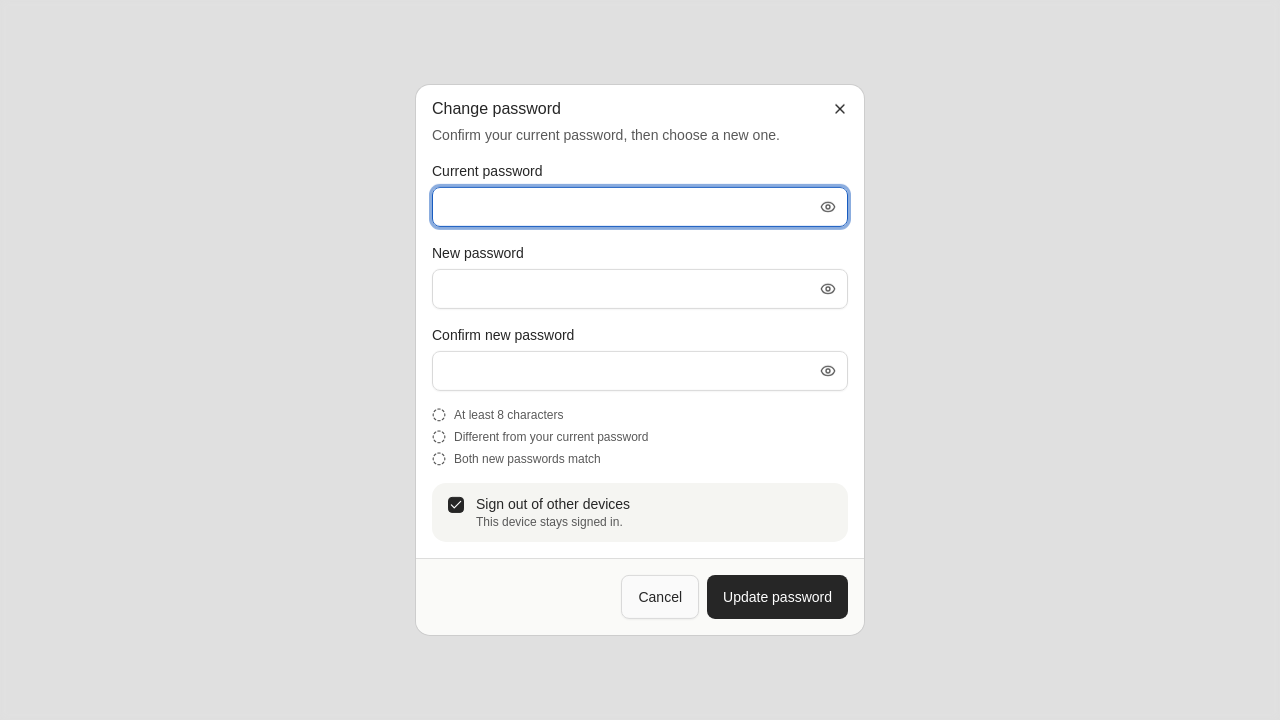
Test: ChangePasswordDialog › blocks invalid input {"next":"short"}
Type "Current-Secret-1" into the password field labelled "Current password".
click(640, 207); type("Current-Secret-1")  # box 432,187 -> 848,227
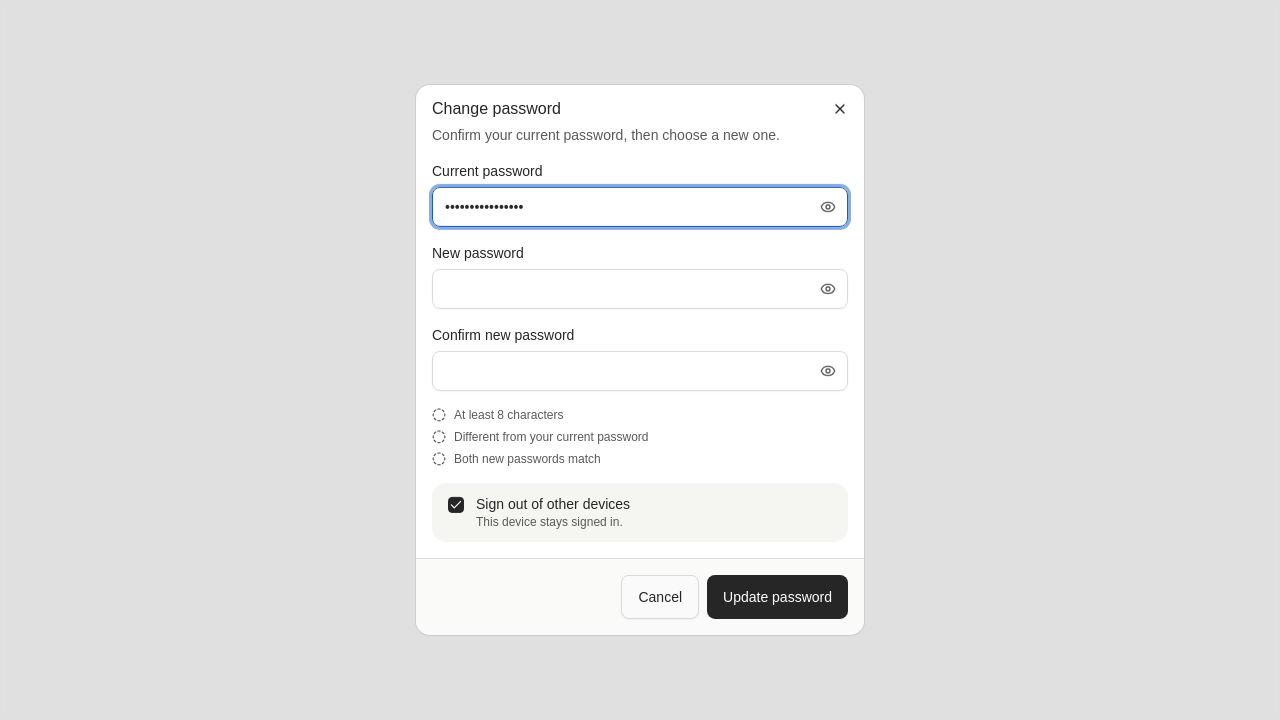
Type "short" into the password field labelled "New password".
click(640, 289); type("short")  # box 432,269 -> 848,309
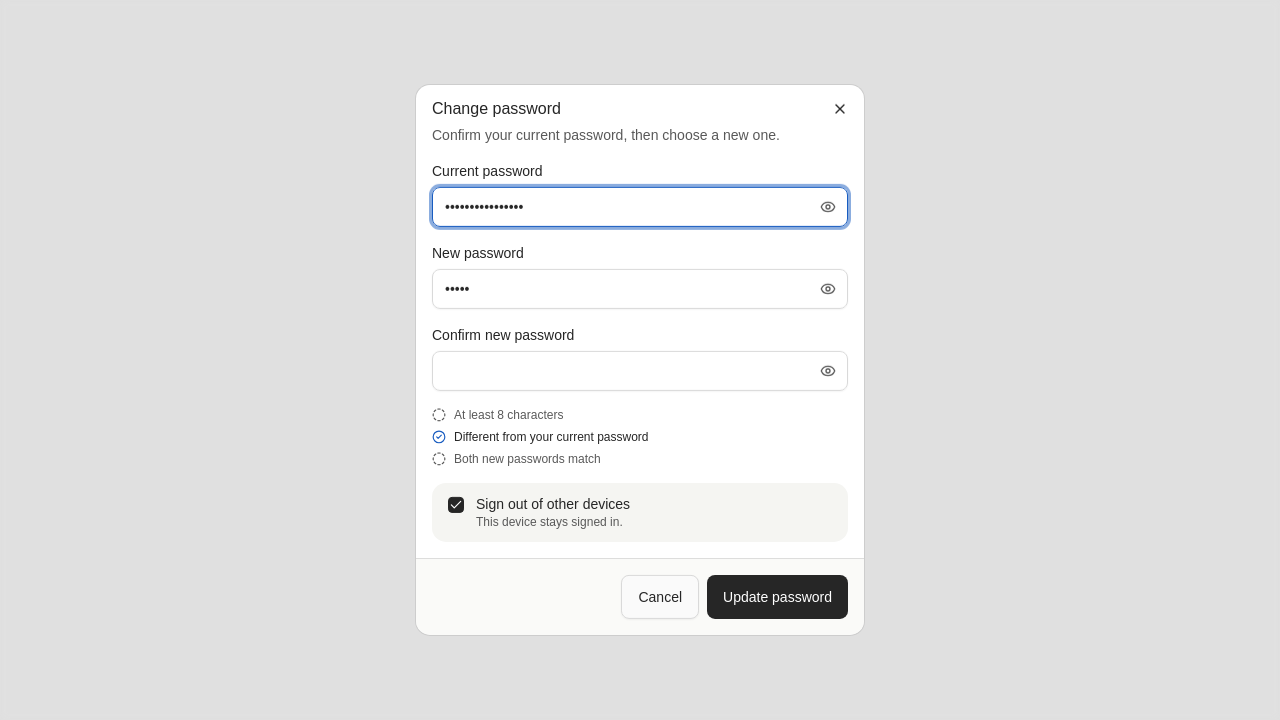
Type "short" into the password field labelled "Confirm new password".
click(640, 371); type("short")  # box 432,351 -> 848,391
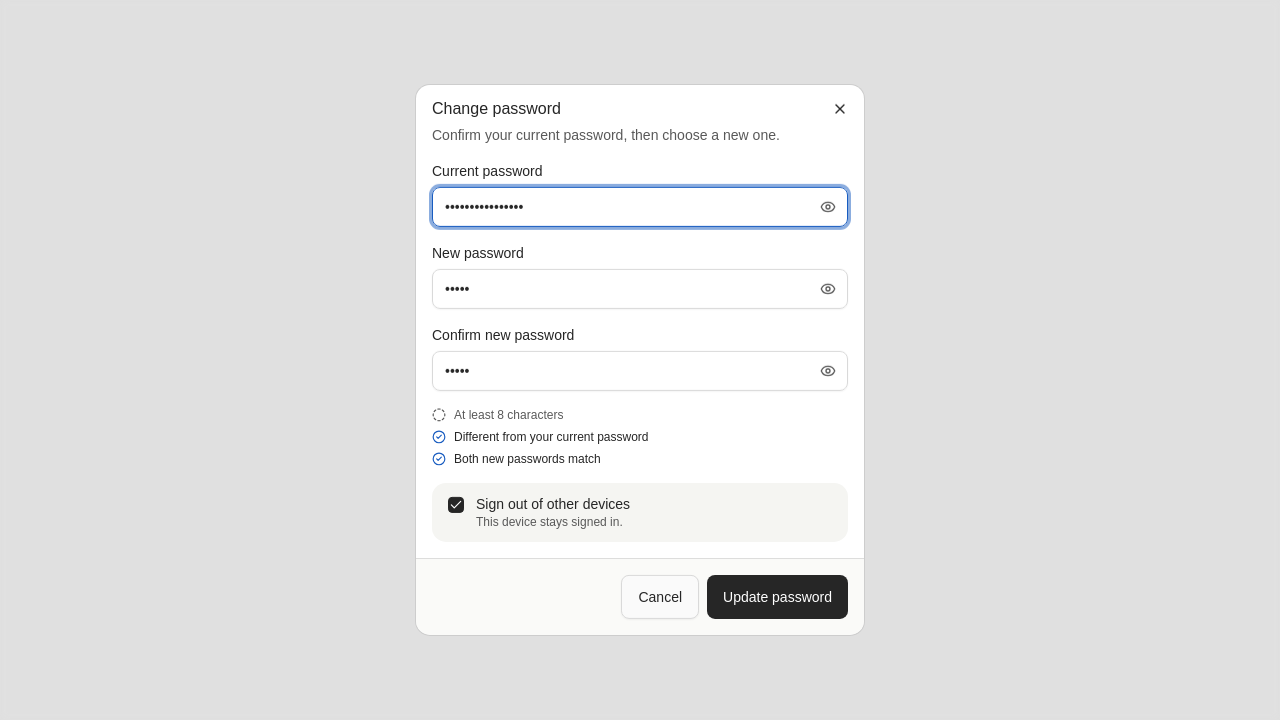
Click the button "Update password".
click(778, 597)  # box 707,575 -> 848,619
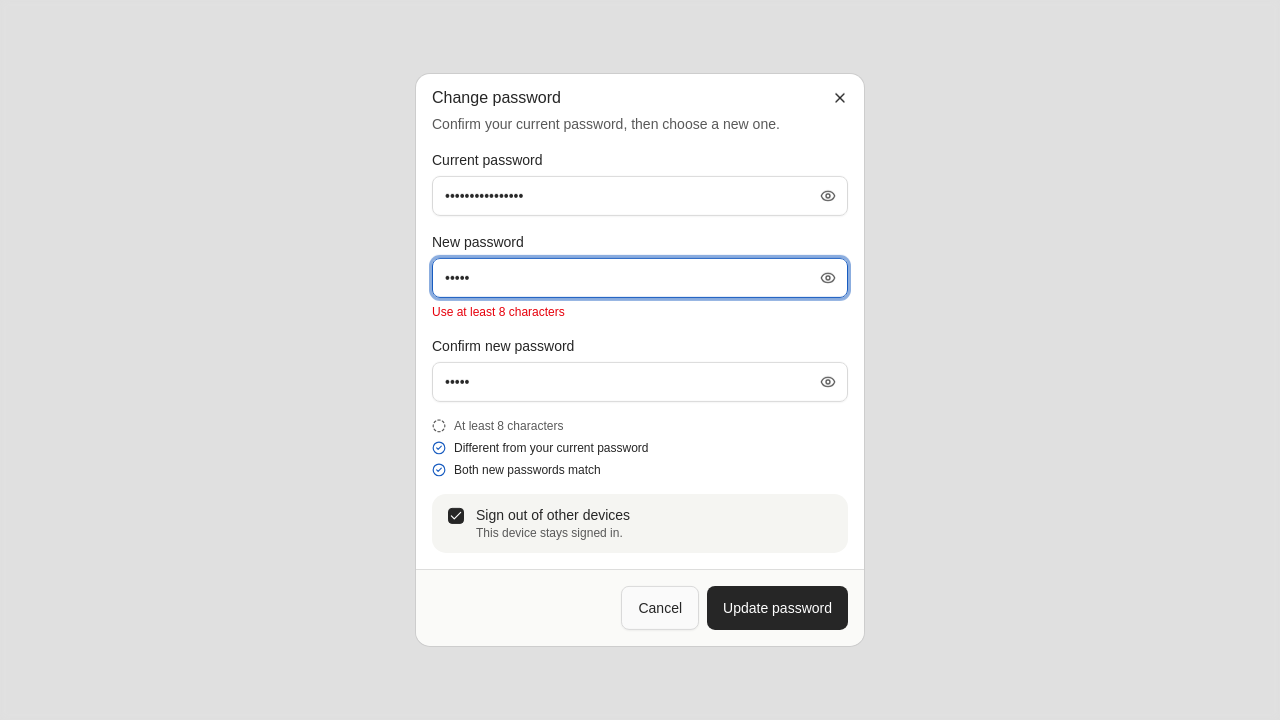
Check: the text "Use at least 8 characters" is shown, box 432,305 -> 565,319
